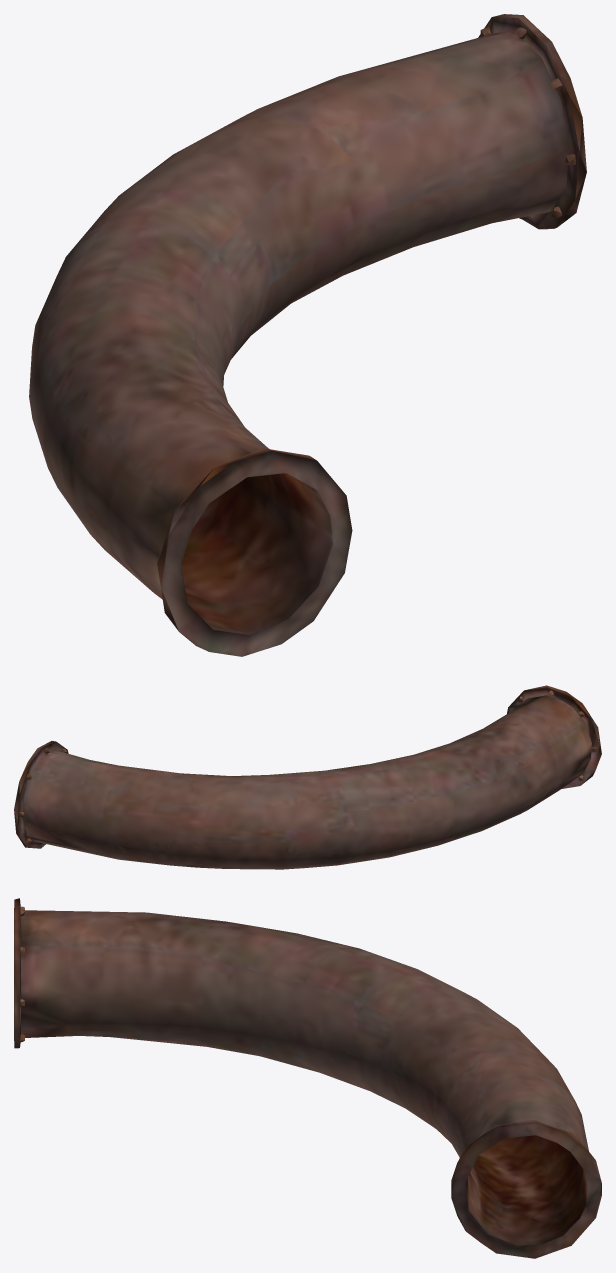
File: rusty_pipe_17.glb
The picture shows the model from 3 angles, top to bottom: view 1: azimuth 30°, elevation 25°; view 2: azimuth 150°, elevation 25°; view 3: azimuth 270°, elevation 25°; orthographic projection. The views are drawn at different scales.
Parts seen in each view (by area): view 1: rusty_pipe_17; view 2: rusty_pipe_17; view 3: rusty_pipe_17.
Boxes of the visible parts, box(x1,y1,x2,y2) form: rusty_pipe_17: box(29, 14, 586, 656); rusty_pipe_17: box(14, 685, 601, 869); rusty_pipe_17: box(14, 898, 601, 1258).
Size of what is drawn, in the model's own units: 0.112 by 0.0287 by 0.112.
1 material, 1 textured.
